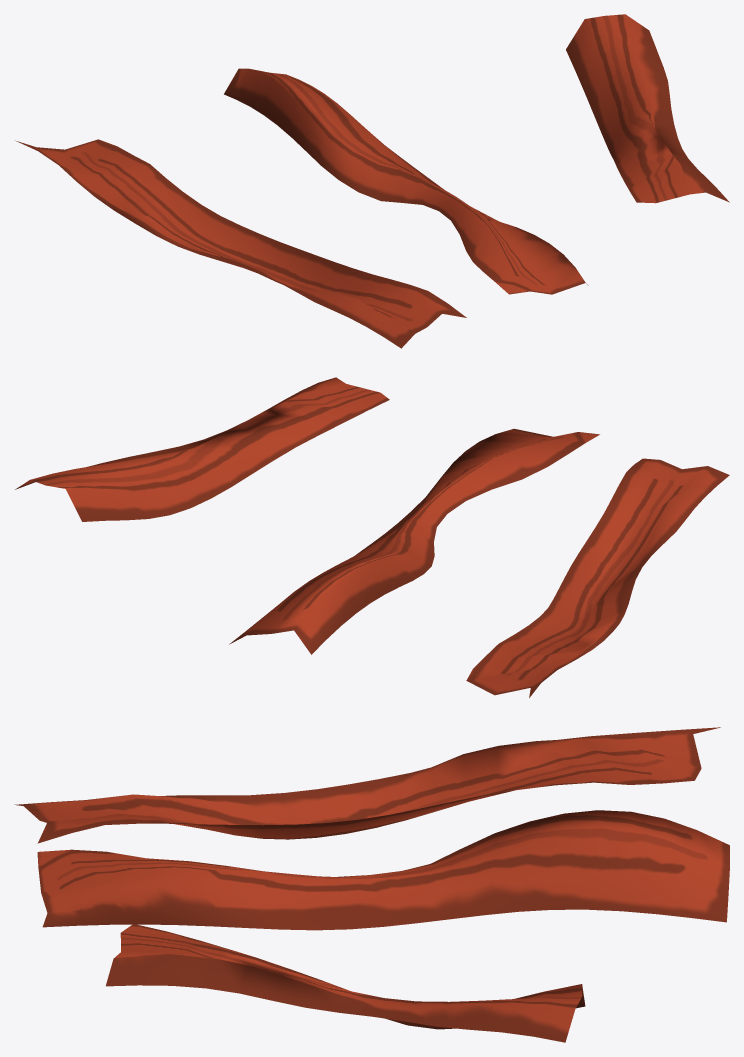
File: bacon.gltf
3 views of the same model, one above another, from view 1: azimuth 30°, elevation 25°; view 2: azimuth 150°, elevation 25°; view 3: azimuth 270°, elevation 25° (orthographic). The views are drawn at different scales.
Parts seen in each view (by area): view 1: Bacon.002, Bacon, Bacon.001; view 2: Bacon.002, Bacon.001, Bacon; view 3: Bacon, Bacon.002, Bacon.001.
Boxes of the visible parts, x1,y1,x2,y2 form: Bacon.002: (15,139,466,348); Bacon: (224,68,588,294); Bacon.001: (566,14,729,203); Bacon.002: (466,458,729,697); Bacon.001: (15,377,389,521); Bacon: (229,428,599,654); Bacon: (37,810,729,930); Bacon.002: (14,727,720,843); Bacon.001: (106,924,585,1042).
Bounding box in the file's own units: 2.33 × 0.3113 × 2.09.
3 materials, 3 textured.
